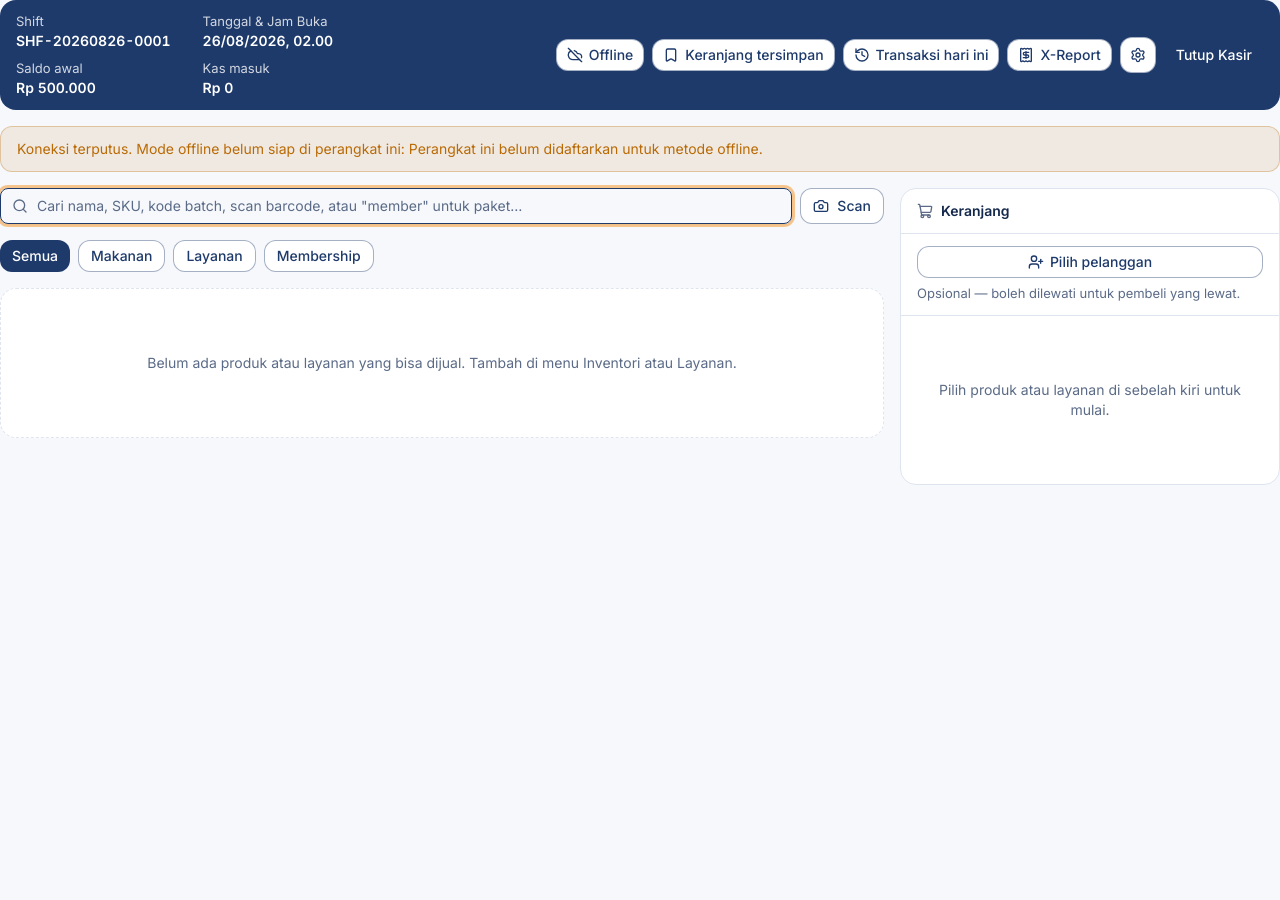
Test: PosScreen — pulling a booking into the basket › opens the bridge, each booking named by its animal
Click the button "Pilih pelanggan": x=1090, y=262 top-left (917, 246), bottom-right (1263, 278)
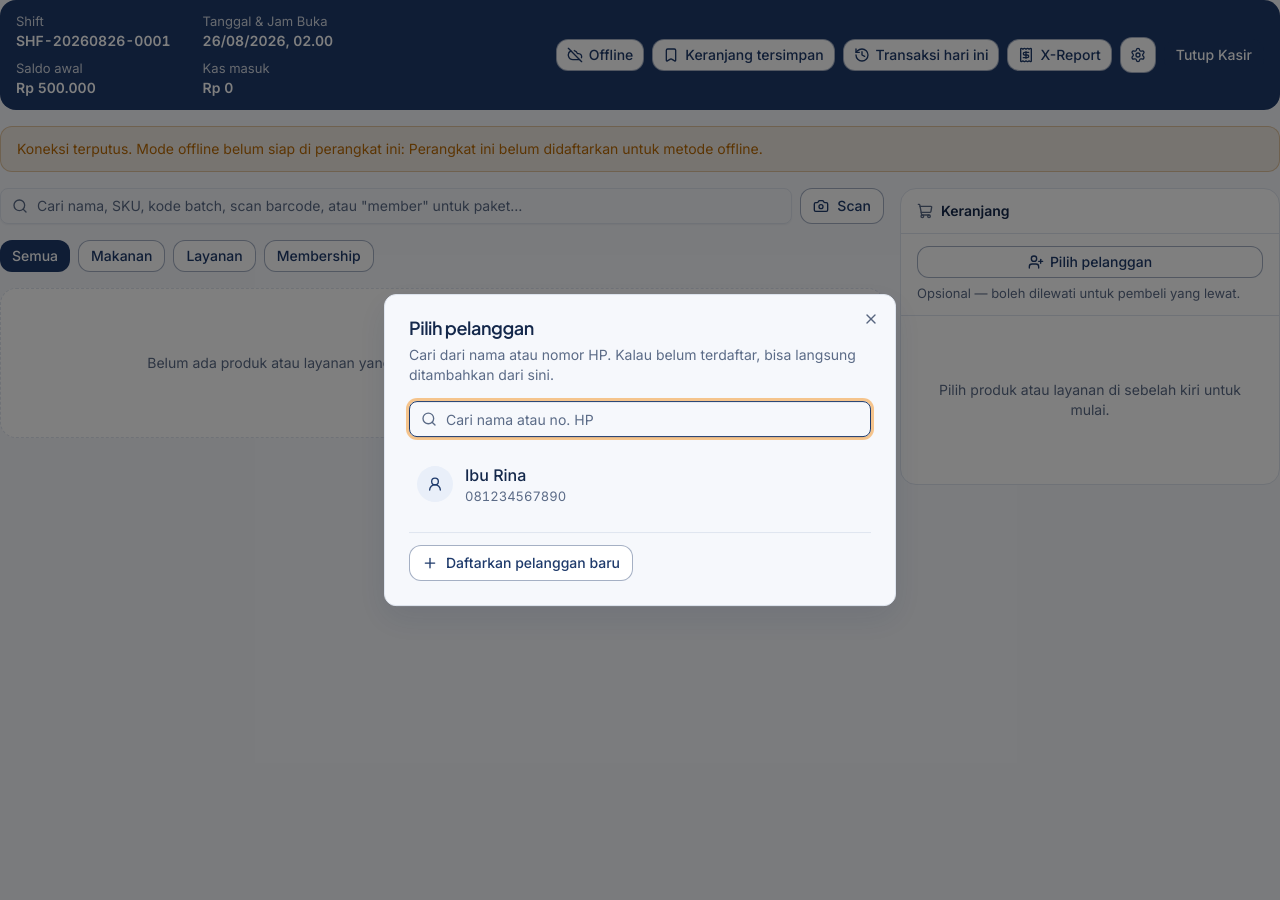
Click the text "Ibu Rina": x=496, y=475 top-left (465, 465), bottom-right (526, 485)
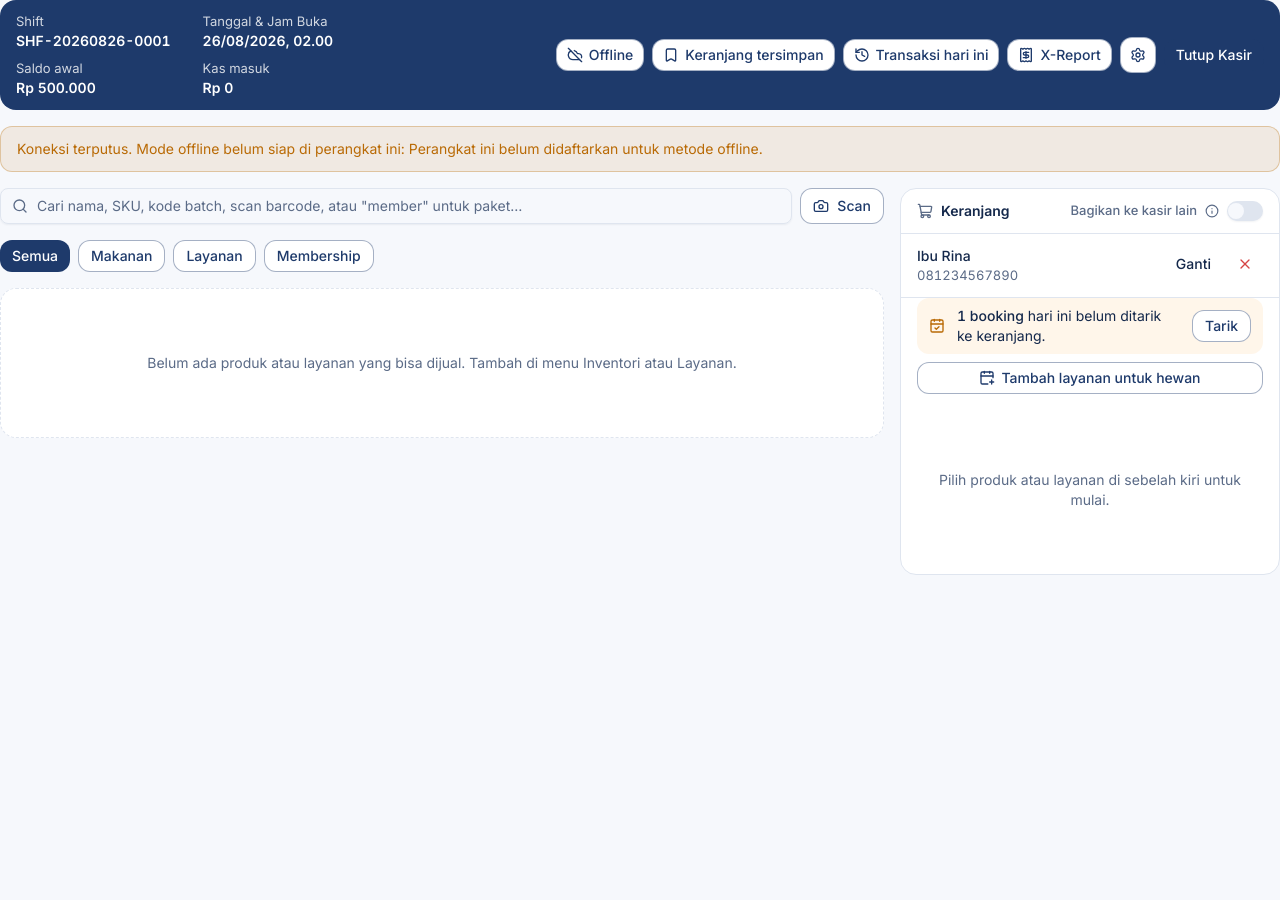
Click the button "Tarik": x=1222, y=326 top-left (1192, 310), bottom-right (1251, 342)
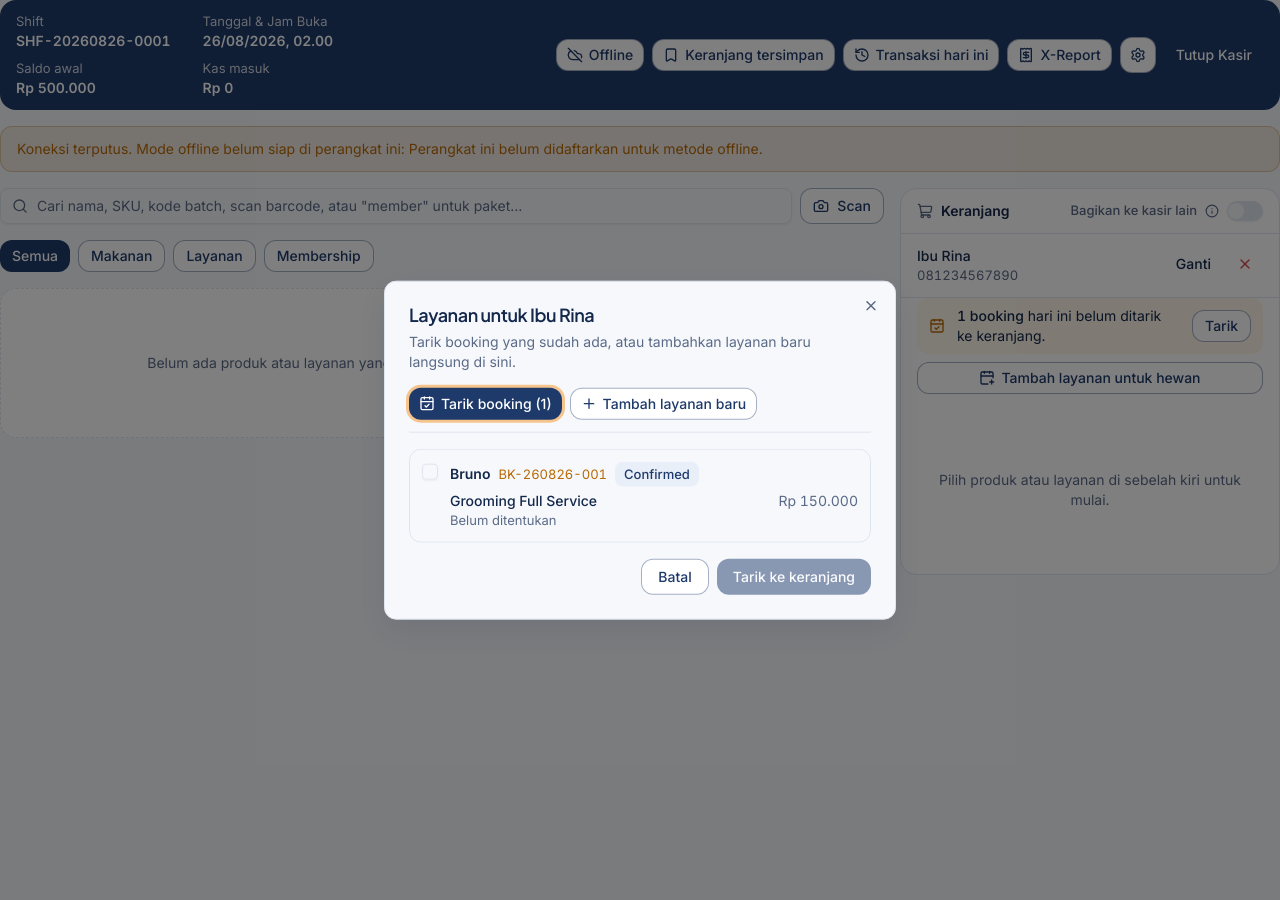
Now the text "BK-260826-001" is shown, box top-left (498, 465), bottom-right (607, 484)
